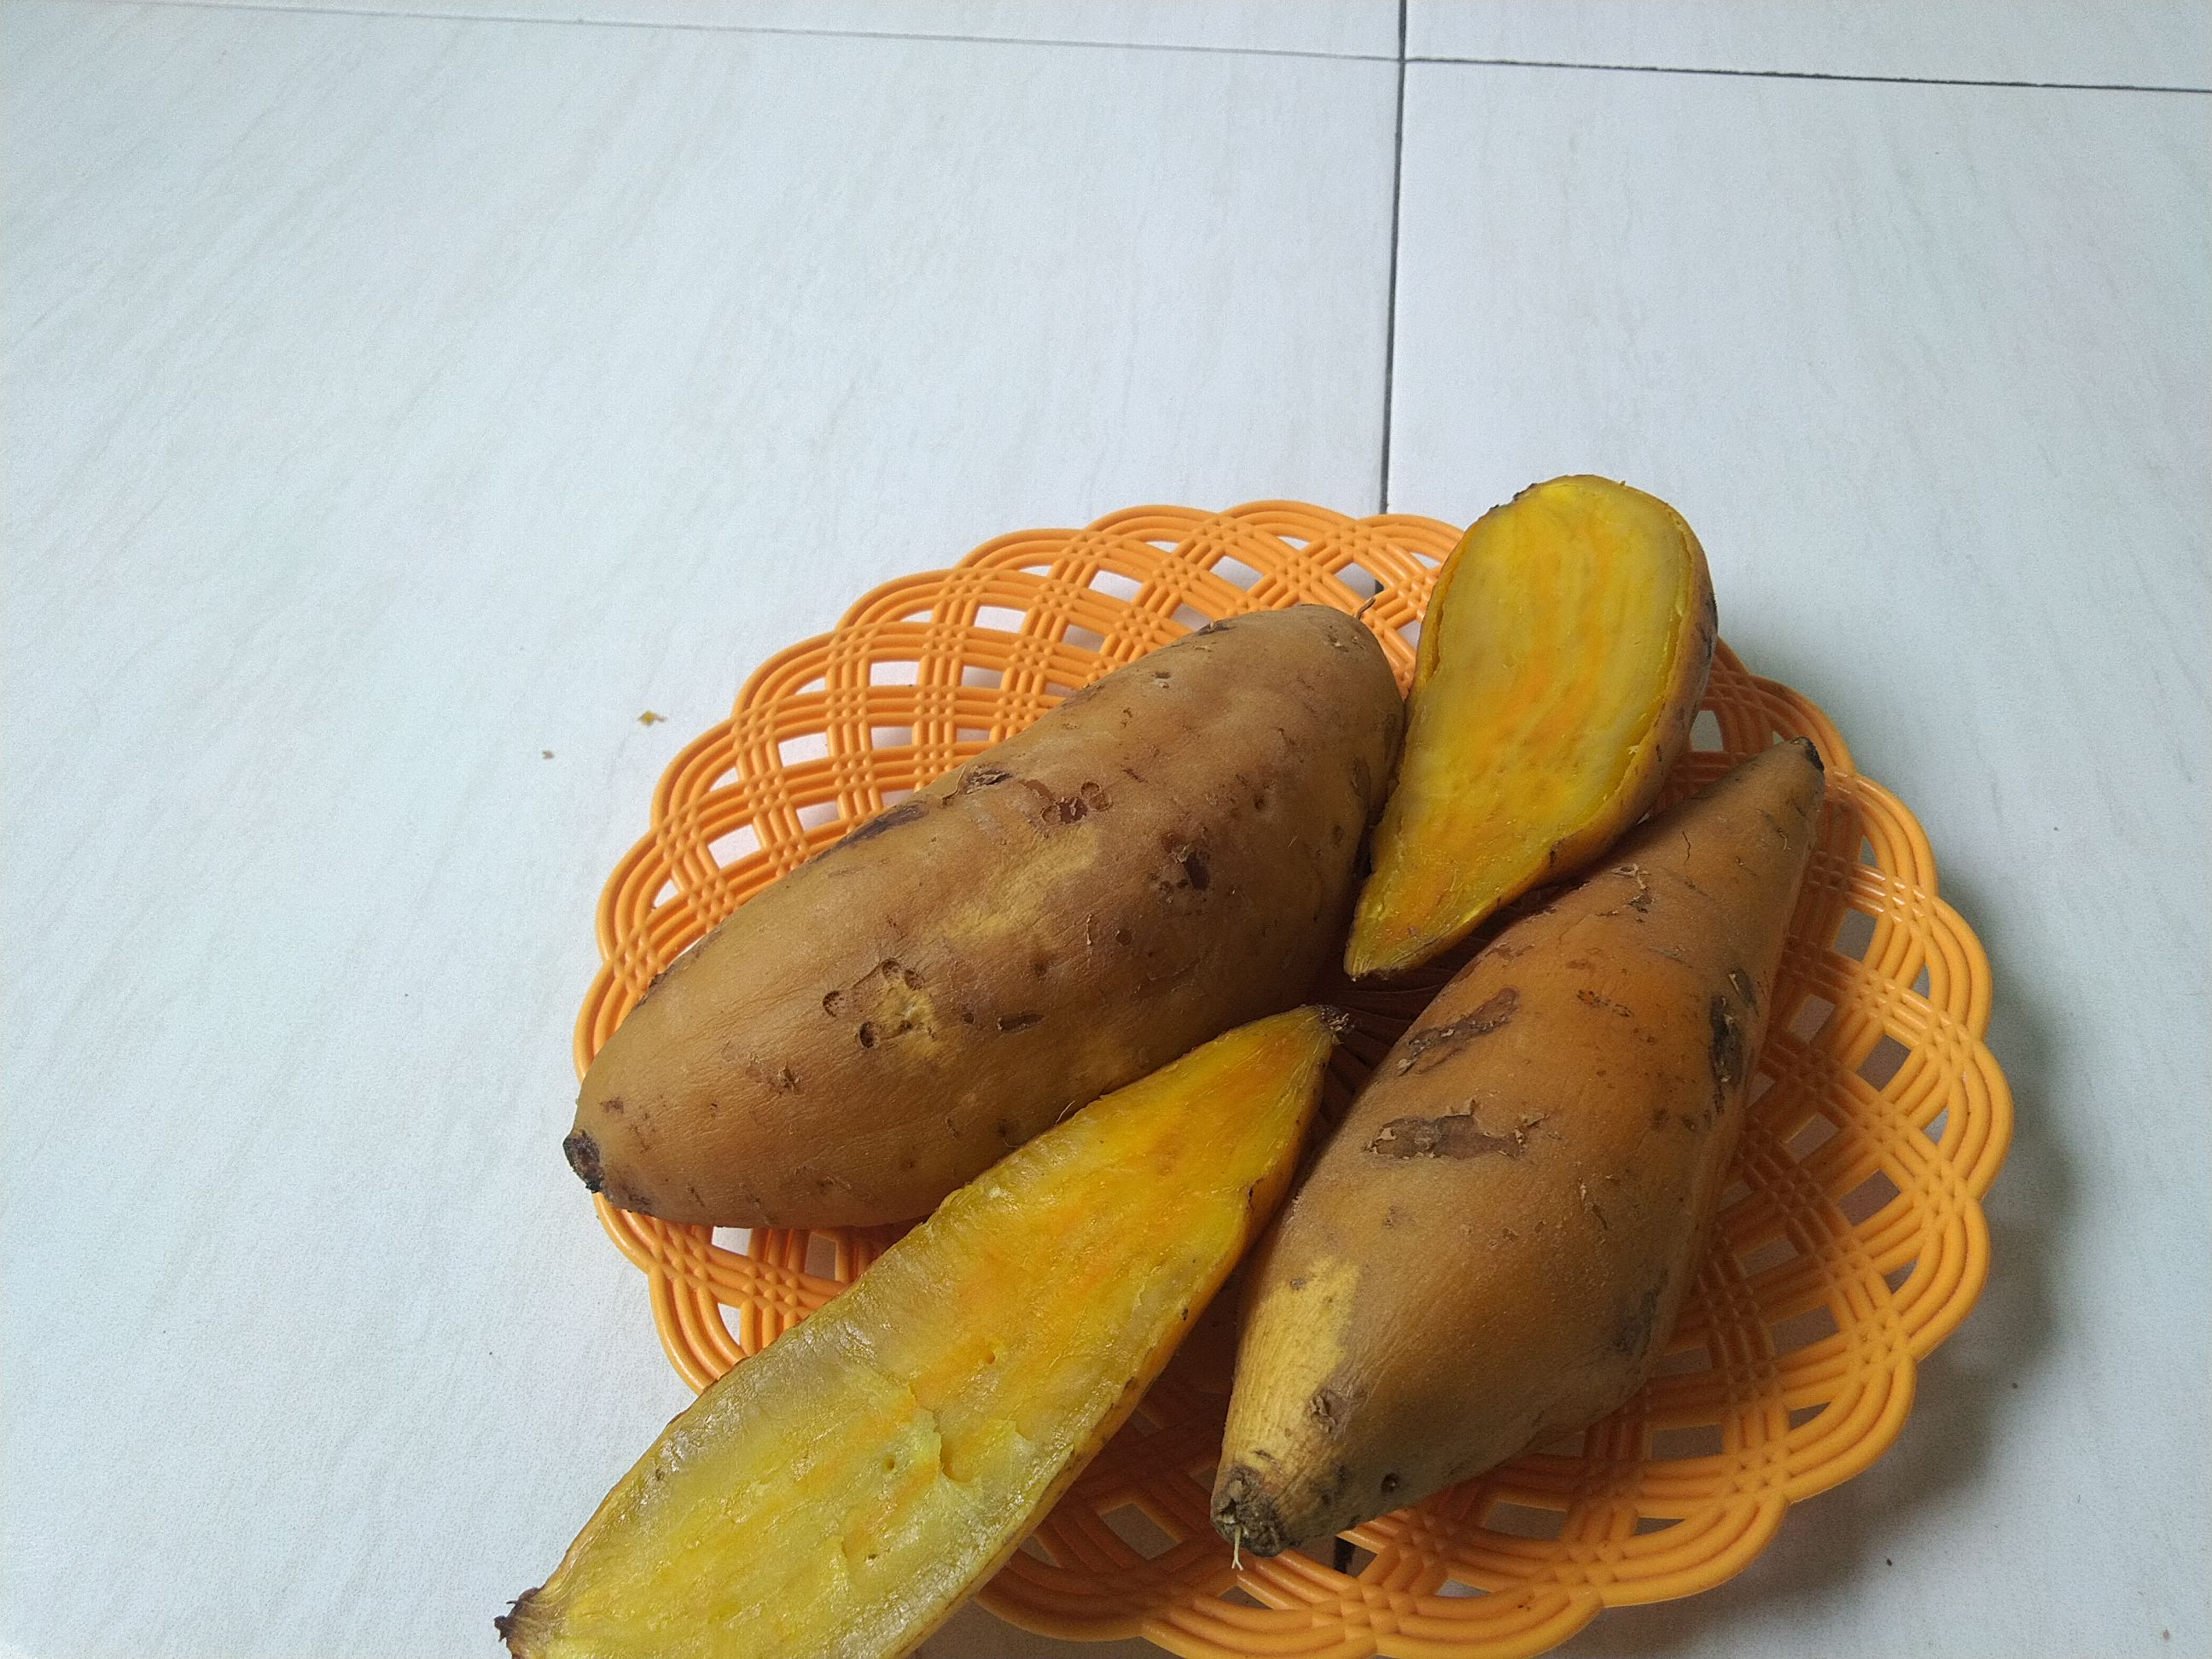ubi cilembu: (496, 990, 1352, 1654), (557, 587, 1400, 1239), (1207, 725, 1829, 1582), (1339, 476, 1721, 999)
